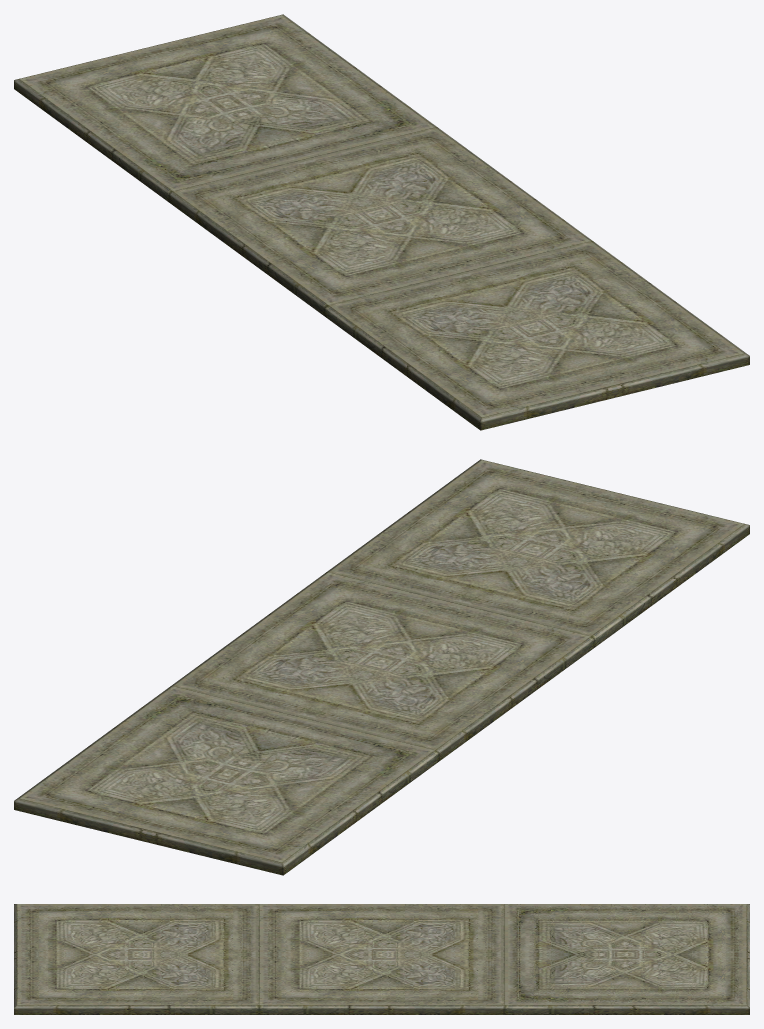
File: secret_floor_02.fbx
The picture shows the model from 3 angles, top to bottom: view 1: azimuth 30°, elevation 25°; view 2: azimuth 150°, elevation 25°; view 3: azimuth 270°, elevation 25°; orthographic projection. The views are drawn at different scales.
Parts seen in each view (by area): view 1: secret_Floor_02; view 2: secret_Floor_02; view 3: secret_Floor_02.
Boxes of the visible parts, bbox=[...] form: secret_Floor_02: bbox=[14, 14, 749, 430]; secret_Floor_02: bbox=[14, 459, 749, 875]; secret_Floor_02: bbox=[14, 904, 749, 1014].
Bounding box in the file's own units: 8 × 0.3042 × 24.
